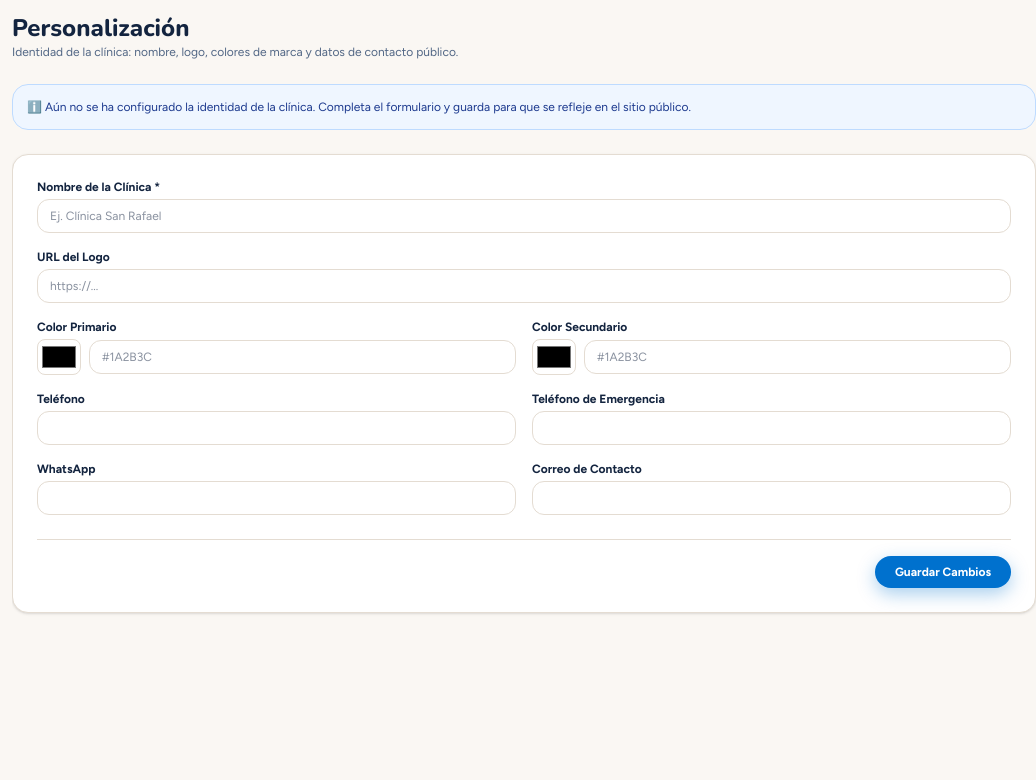
it: BrandingPageComponent › shows a clear explanation when the save is rejected as a permission denial
Type "Clínica San Rafael" into the field labelled "Nombre de la Clínica *".
click(524, 216); type("Clínica San Rafael")  # box [37,199,1011,233]
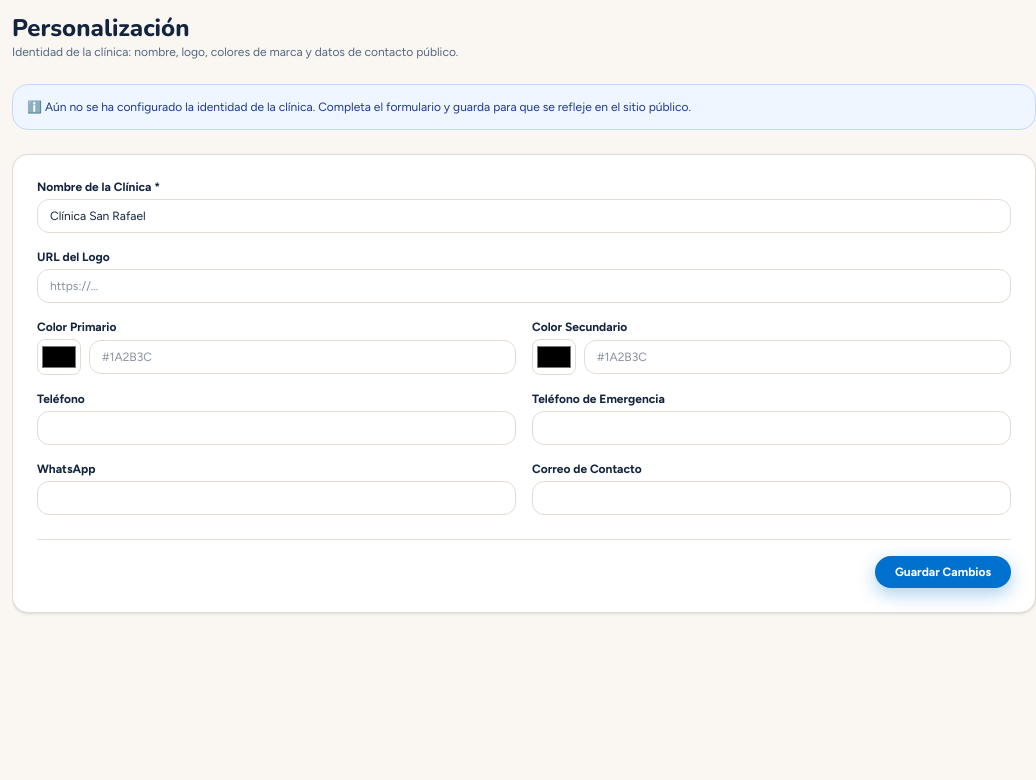
Submit the form, box [12,154,1035,613]
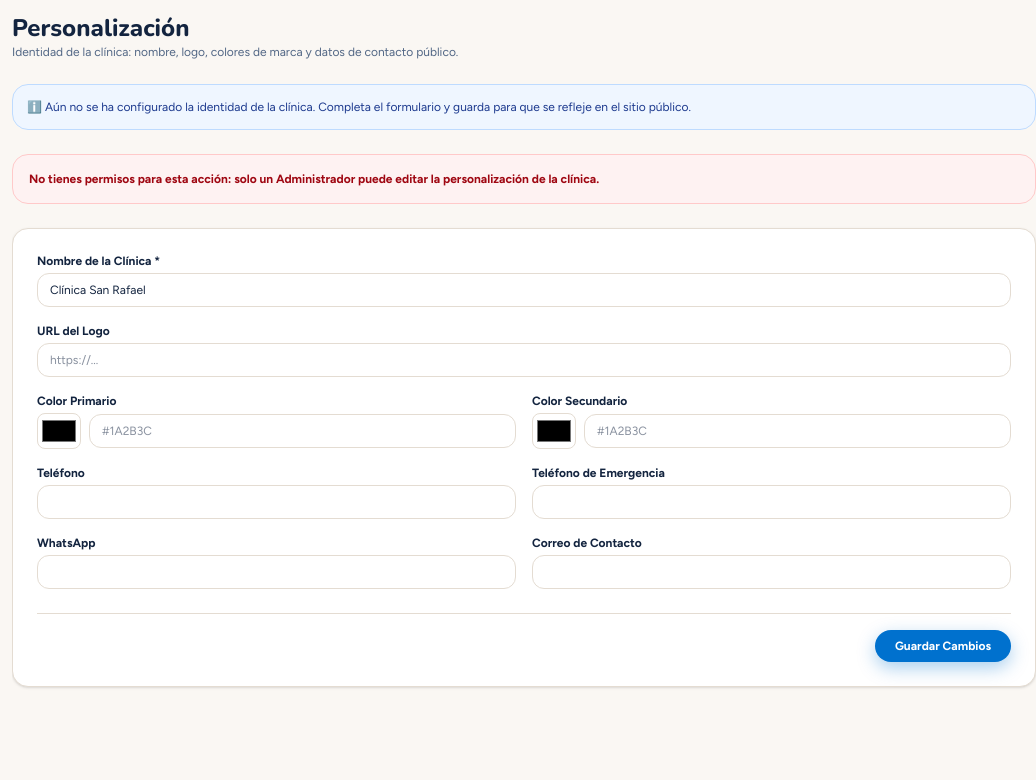
Now the text "solo un Administrador puede editar la personalización" is shown, box [29,172,599,186]
